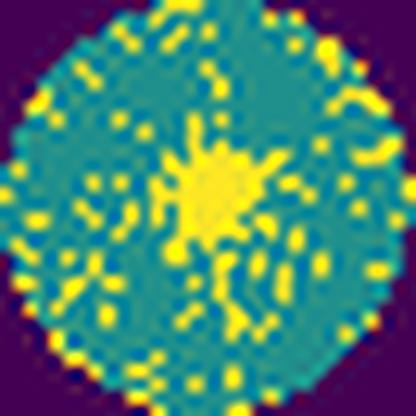Center: (145, 113, 291, 272)
